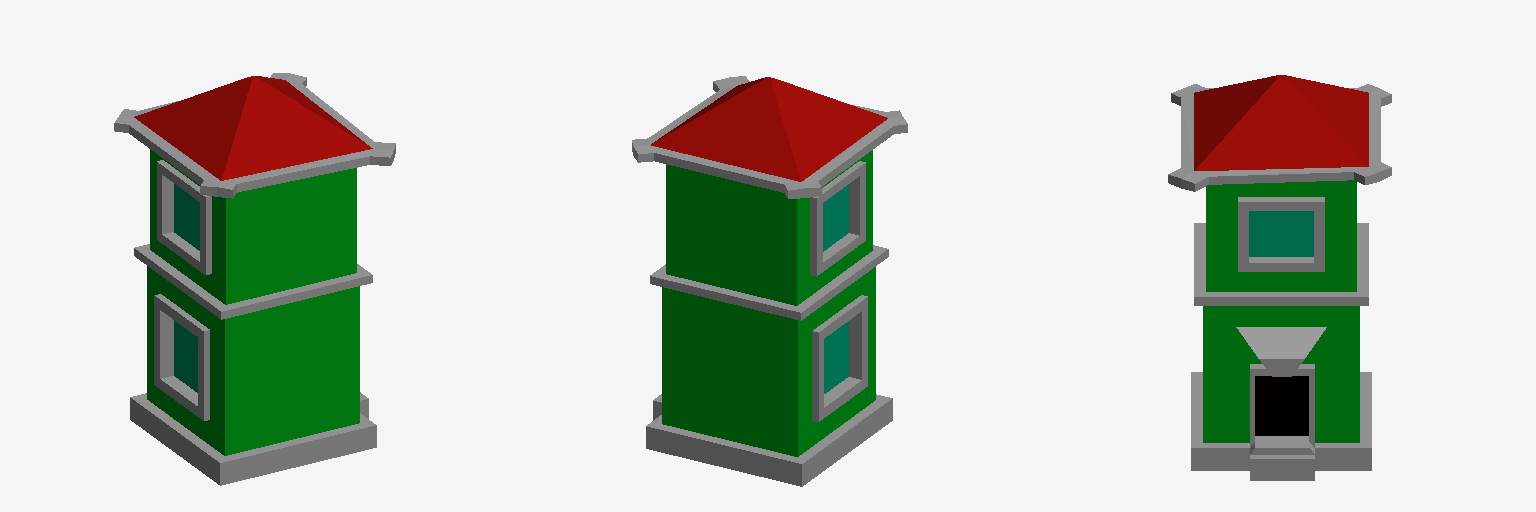
Rendered from house1.obj.
3 views of the same model, side by side, from view 1: azimuth 30°, elevation 25°; view 2: azimuth 150°, elevation 25°; view 3: azimuth 270°, elevation 25° (orthographic).
Parts seen in each view (by area): view 1: Cube; view 2: Cube; view 3: Cube.
Part boxes in pixels (bbox=[...]): Cube: bbox=[114, 73, 395, 485]; Cube: bbox=[632, 76, 907, 486]; Cube: bbox=[1168, 75, 1391, 480].
Bounding box in the file's own units: 2.89 × 5.02 × 2.86.